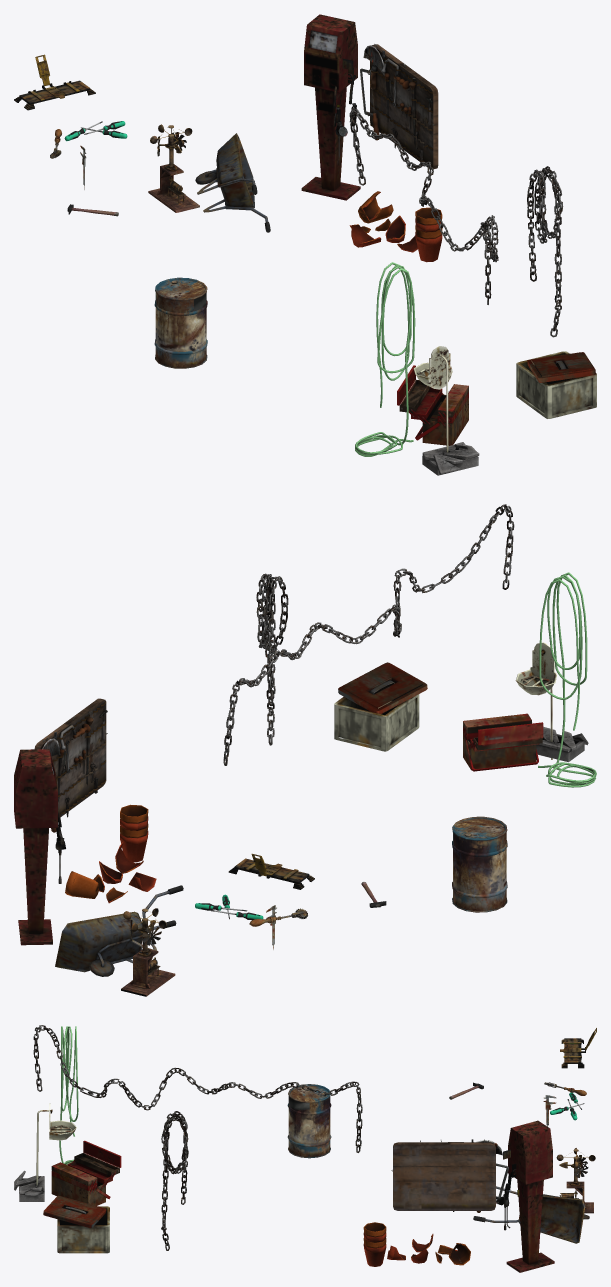
File: The Shed Tools.fbx
3 renders of one model, top to bottom at view 1: azimuth 30°, elevation 25°; view 2: azimuth 150°, elevation 25°; view 3: azimuth 270°, elevation 25°, orthographic. The views are drawn at different scales.
Parts seen in each view (by area): view 1: The Shed Tools; view 2: The Shed Tools; view 3: The Shed Tools.
Part boxes in pixels (box(x1,y1,x2,y2)): The Shed Tools: box(14, 14, 596, 475); The Shed Tools: box(14, 504, 596, 996); The Shed Tools: box(14, 1025, 596, 1272).
Bounding box in the file's own units: 488 × 328 × 910.
